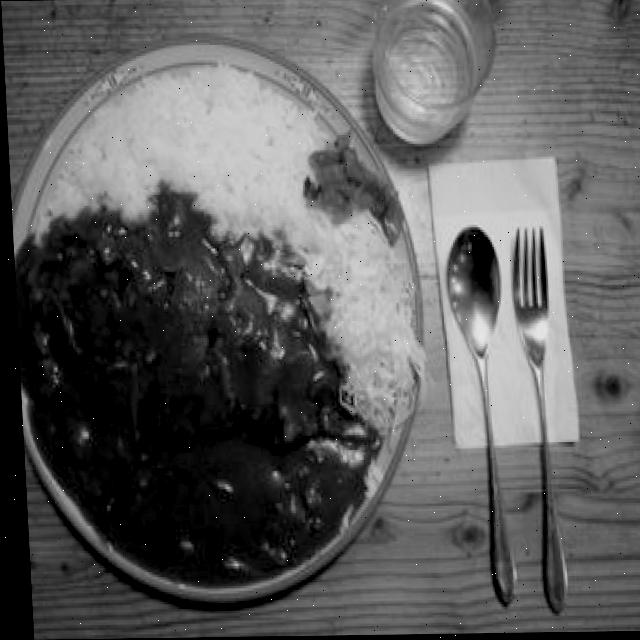猪肉菜式: (1, 25, 442, 612)
